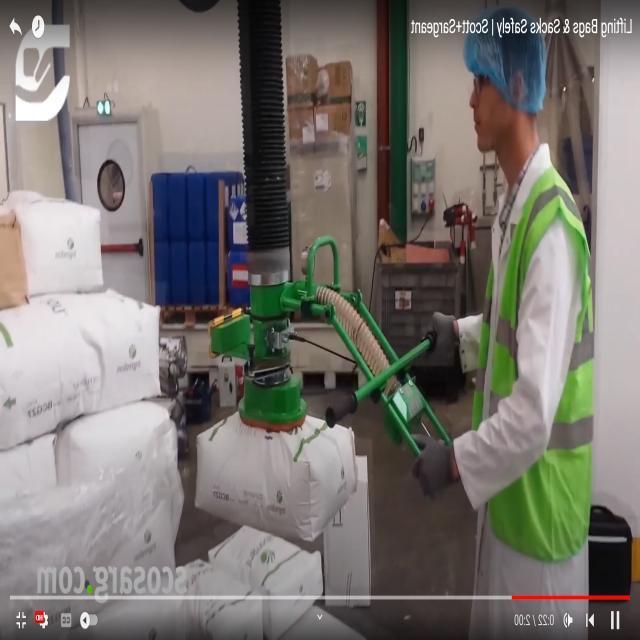gunny_bag: (0, 289, 159, 449), (195, 412, 357, 541), (2, 189, 102, 295), (54, 400, 177, 484), (208, 526, 323, 597), (262, 600, 312, 639)
